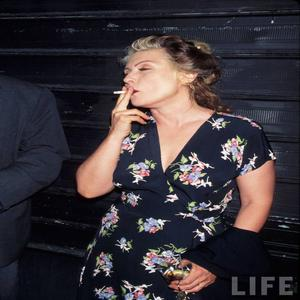cigarette: (111, 90, 137, 96)
